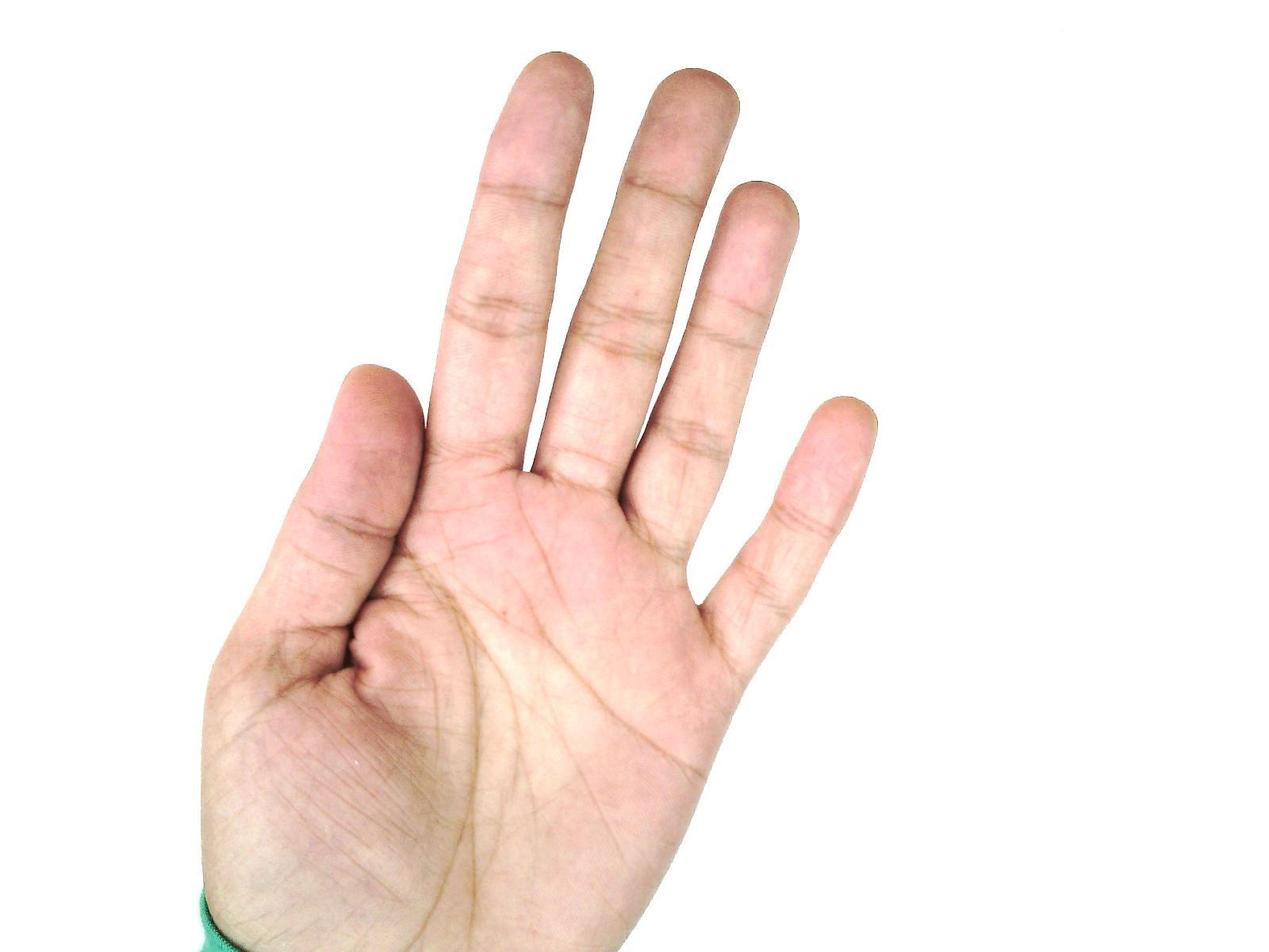open_palm: (195, 49, 882, 951)
